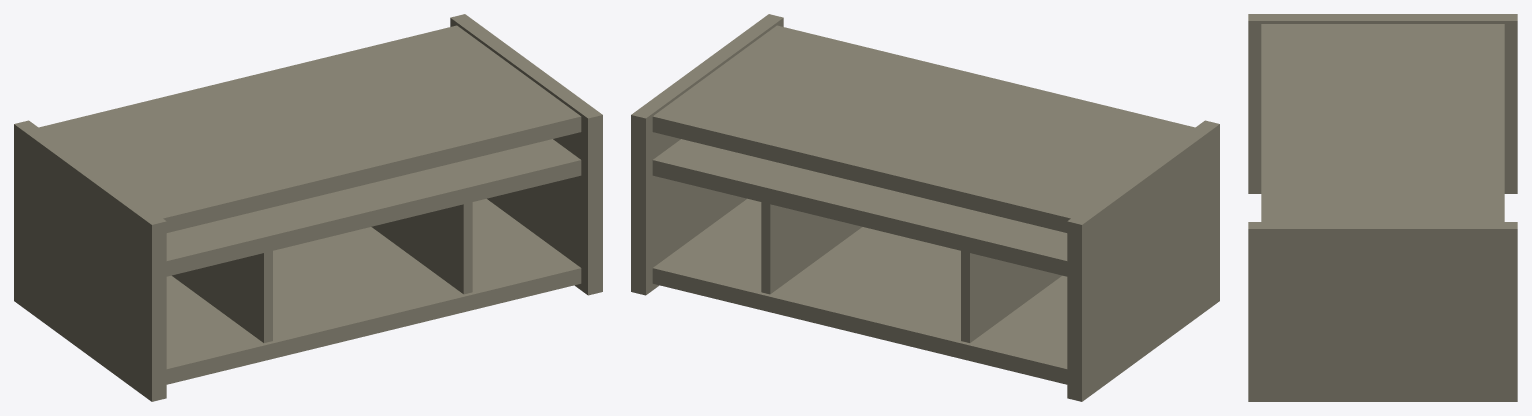
File: shelf_small.glb
3 views of the same model, side by side, from view 1: azimuth 30°, elevation 25°; view 2: azimuth 150°, elevation 25°; view 3: azimuth 270°, elevation 25° (orthographic). The views are drawn at different scales.
Visible parts, largest first — view 1: prop_shelf_small; view 2: prop_shelf_small; view 3: prop_shelf_small.
Part boxes in pixels (left/top/right/bottom): prop_shelf_small: left=14, top=14, right=602, bottom=401; prop_shelf_small: left=631, top=14, right=1219, bottom=401; prop_shelf_small: left=1248, top=14, right=1517, bottom=401.
Bounding box in the file's own units: 1.4 × 0.5249 × 0.7412.
